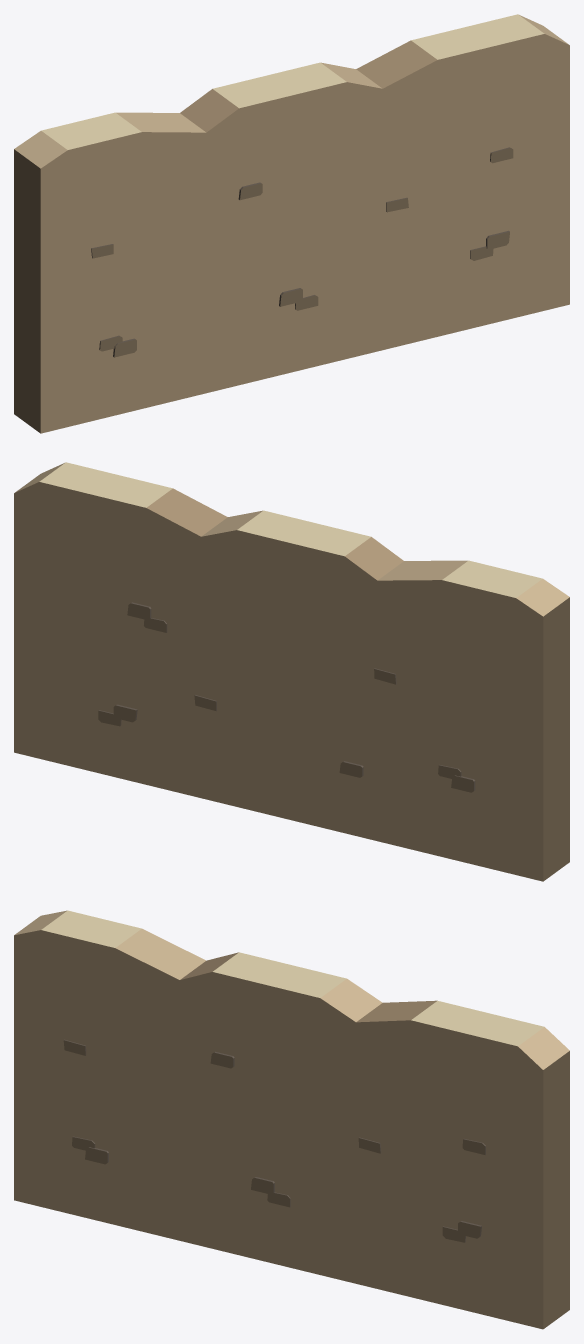
File: TB_D_Bd_Wall_Plain_B.FBX
3 renders of one model, top to bottom at view 1: azimuth 30°, elevation 25°; view 2: azimuth 150°, elevation 25°; view 3: azimuth 330°, elevation 25°, orthographic.
Visible parts, largest first — view 1: TB_D_Bd_Wall_Plain_B; view 2: TB_D_Bd_Wall_Plain_B; view 3: TB_D_Bd_Wall_Plain_B.
Part boxes in pixels (box(x1,y1,x2,y2)): TB_D_Bd_Wall_Plain_B: box(14, 14, 569, 433); TB_D_Bd_Wall_Plain_B: box(14, 462, 569, 881); TB_D_Bd_Wall_Plain_B: box(14, 910, 569, 1329).
Size of the model in its own units: 8 by 4 by 0.7691.
